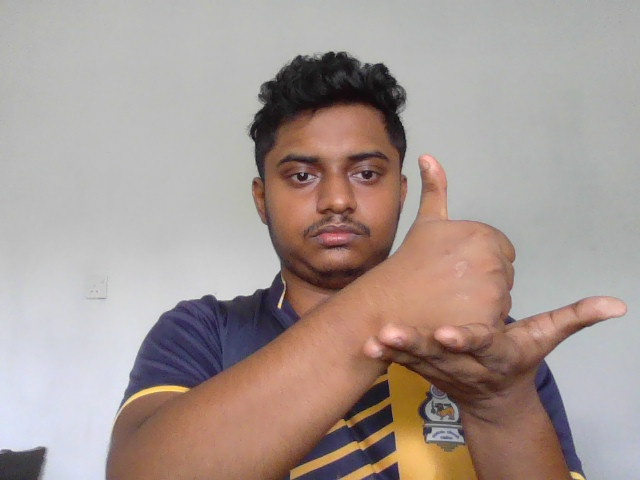Help: (368, 154, 635, 399)
